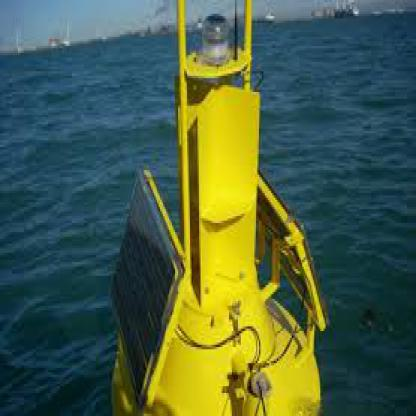buoy: (105, 2, 335, 414)
